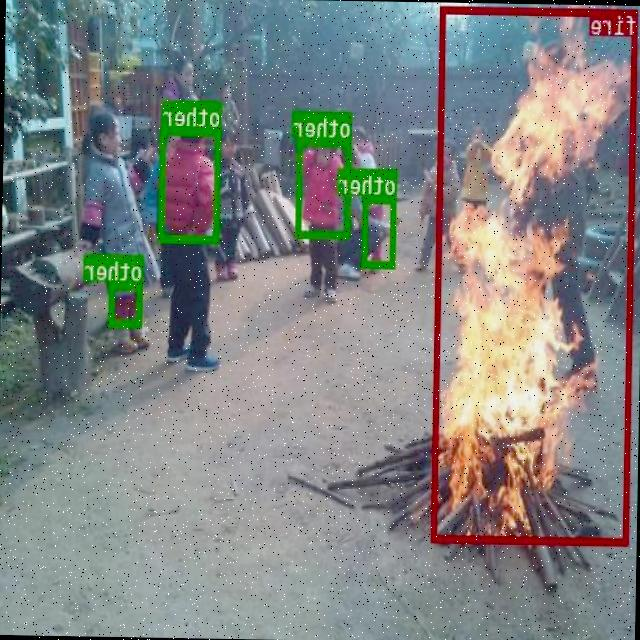fire: (433, 4, 639, 544)
